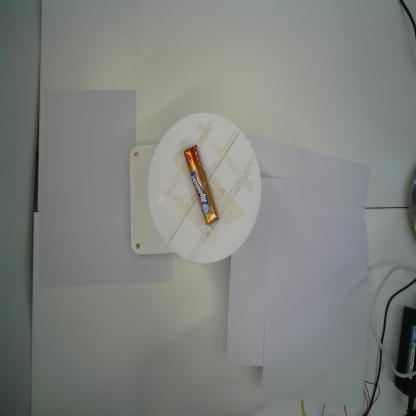Candy: (184, 144, 219, 226)
